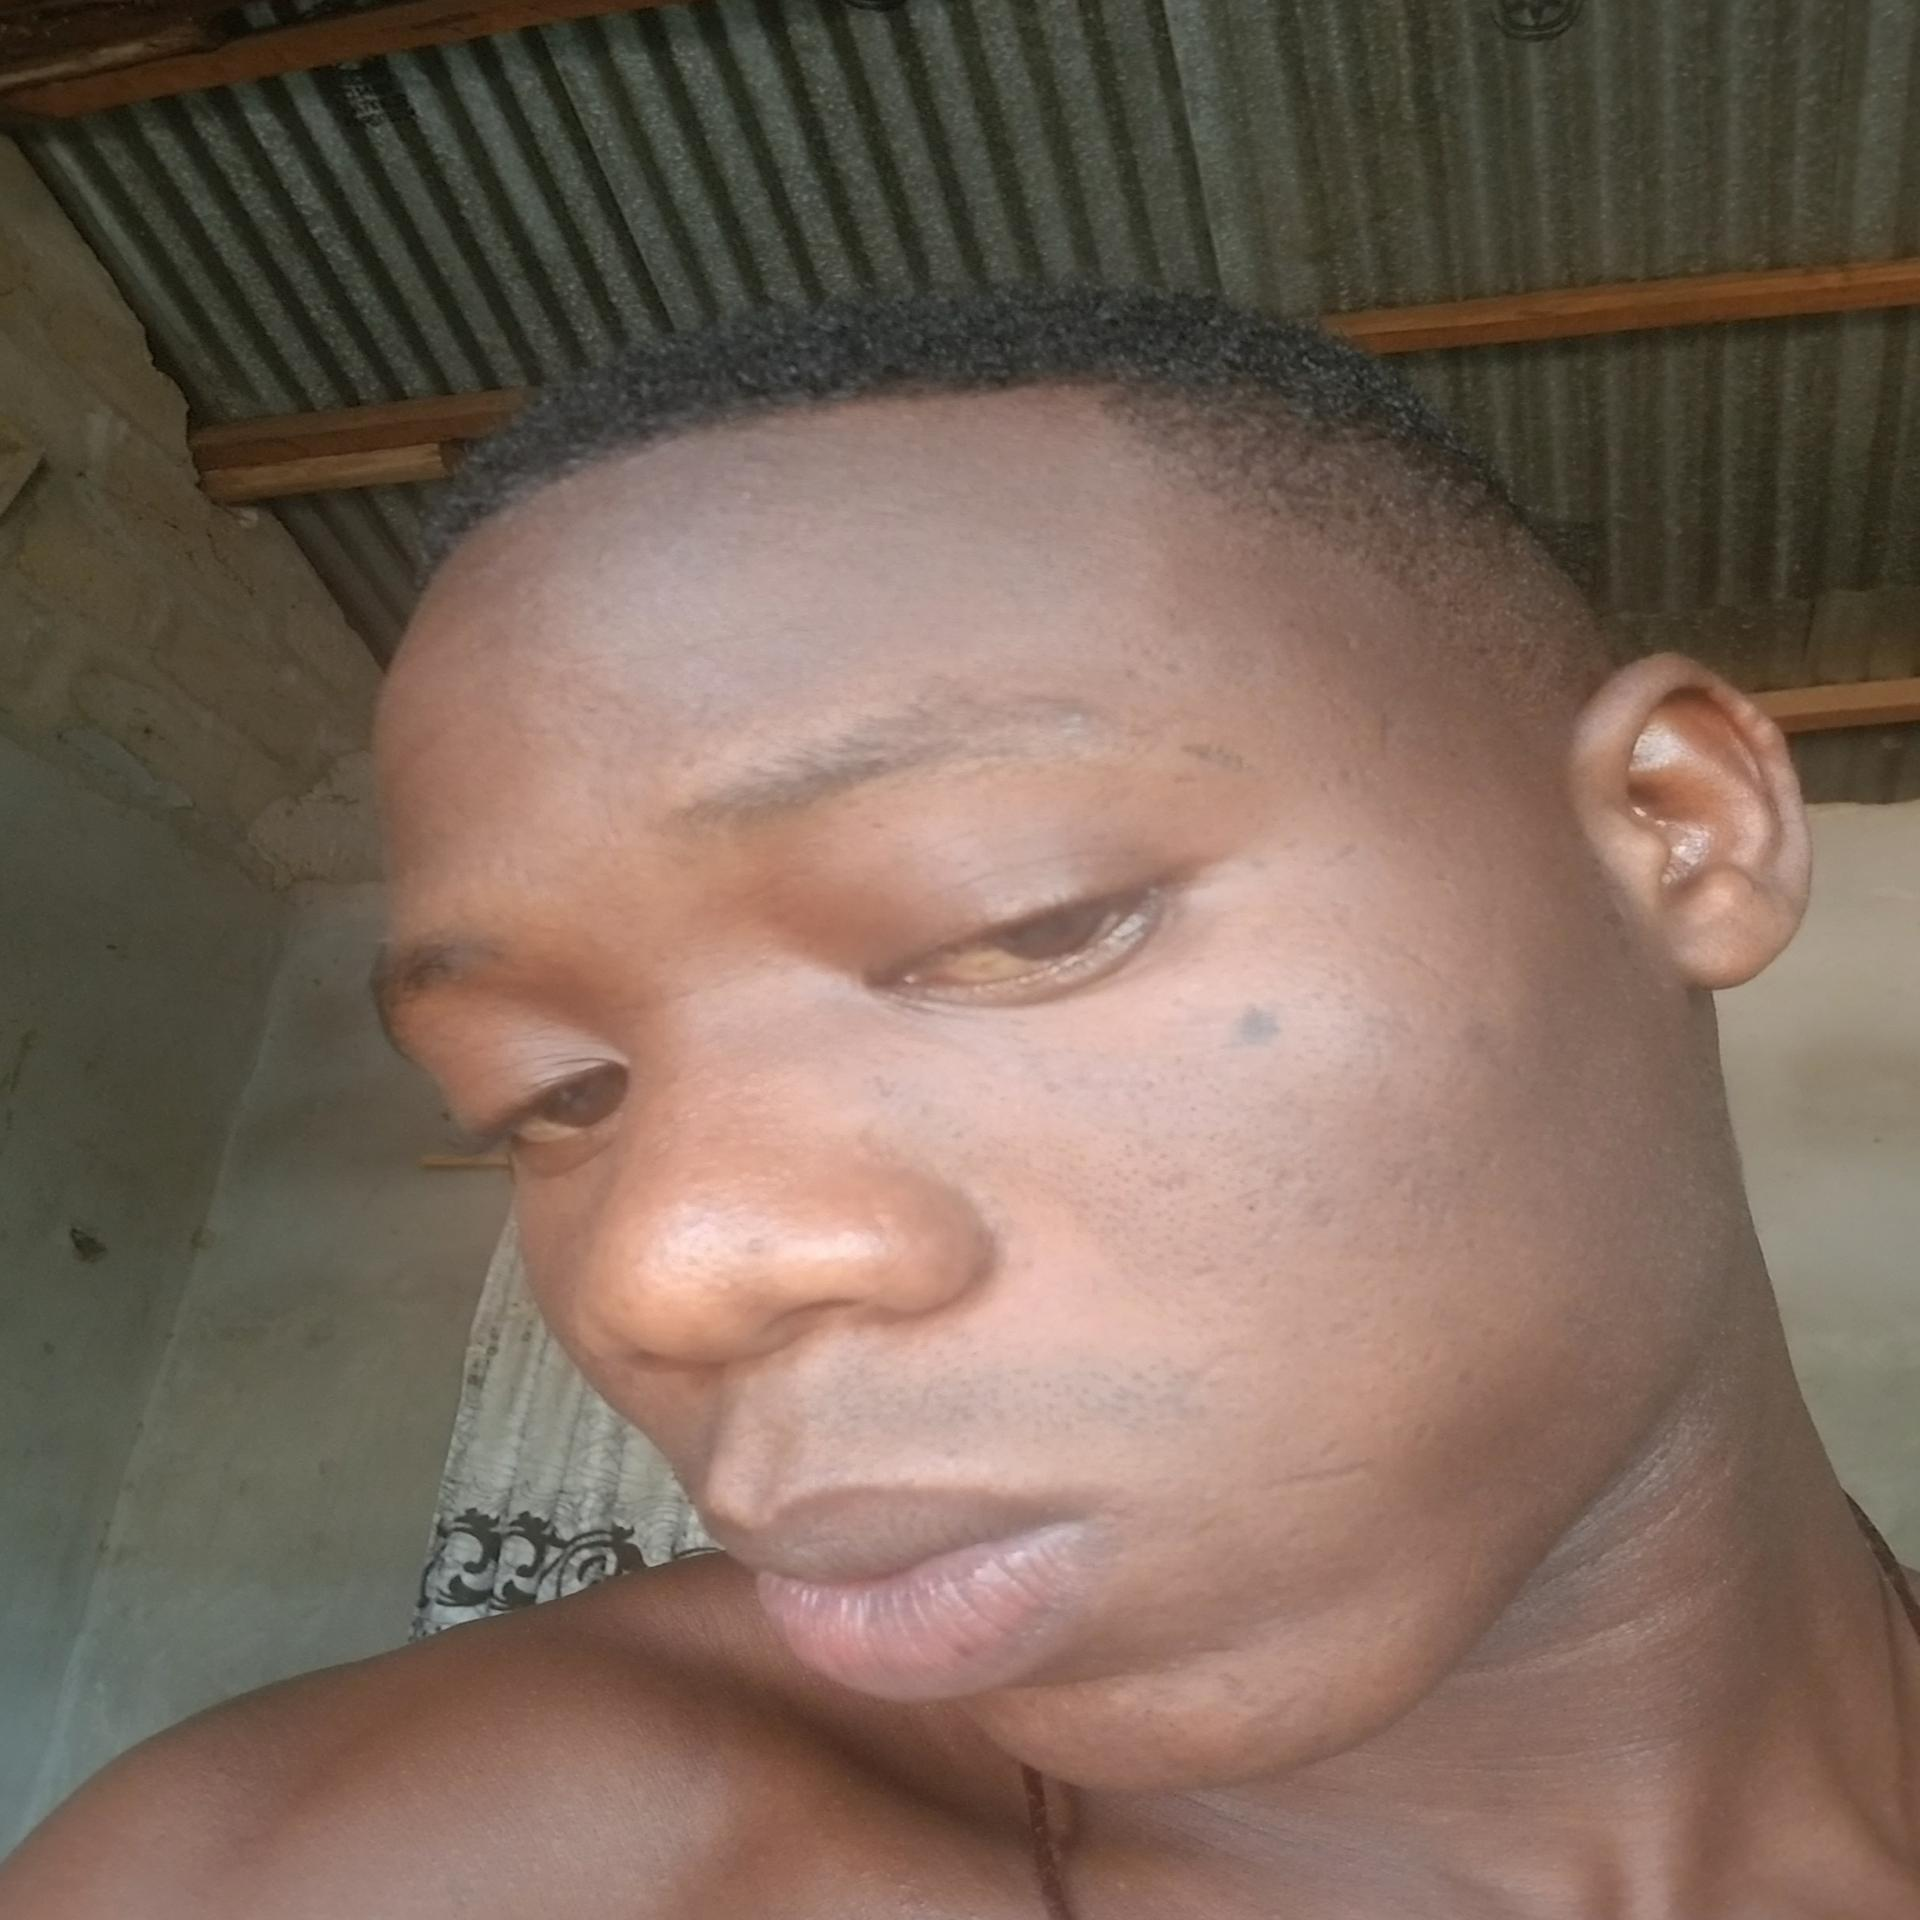Blackhead: (1058, 1076, 1315, 1284)
